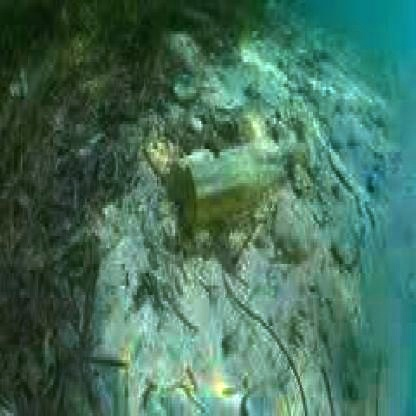gbottle: (172, 135, 310, 242)
